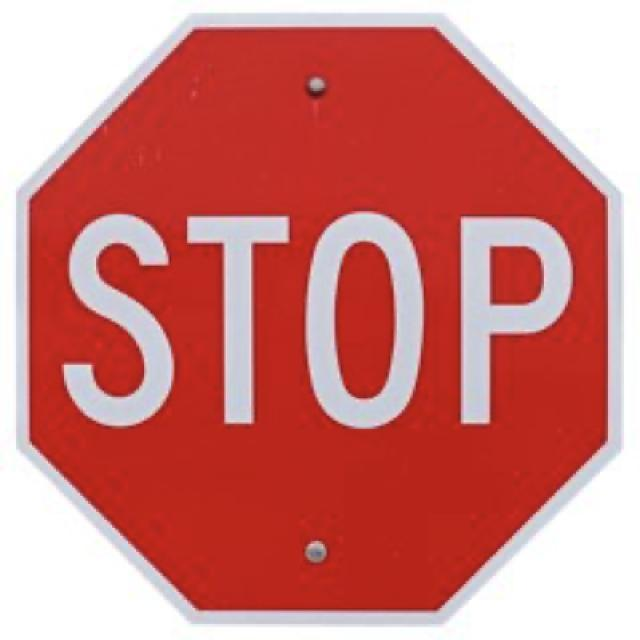stop: (13, 9, 627, 628)
